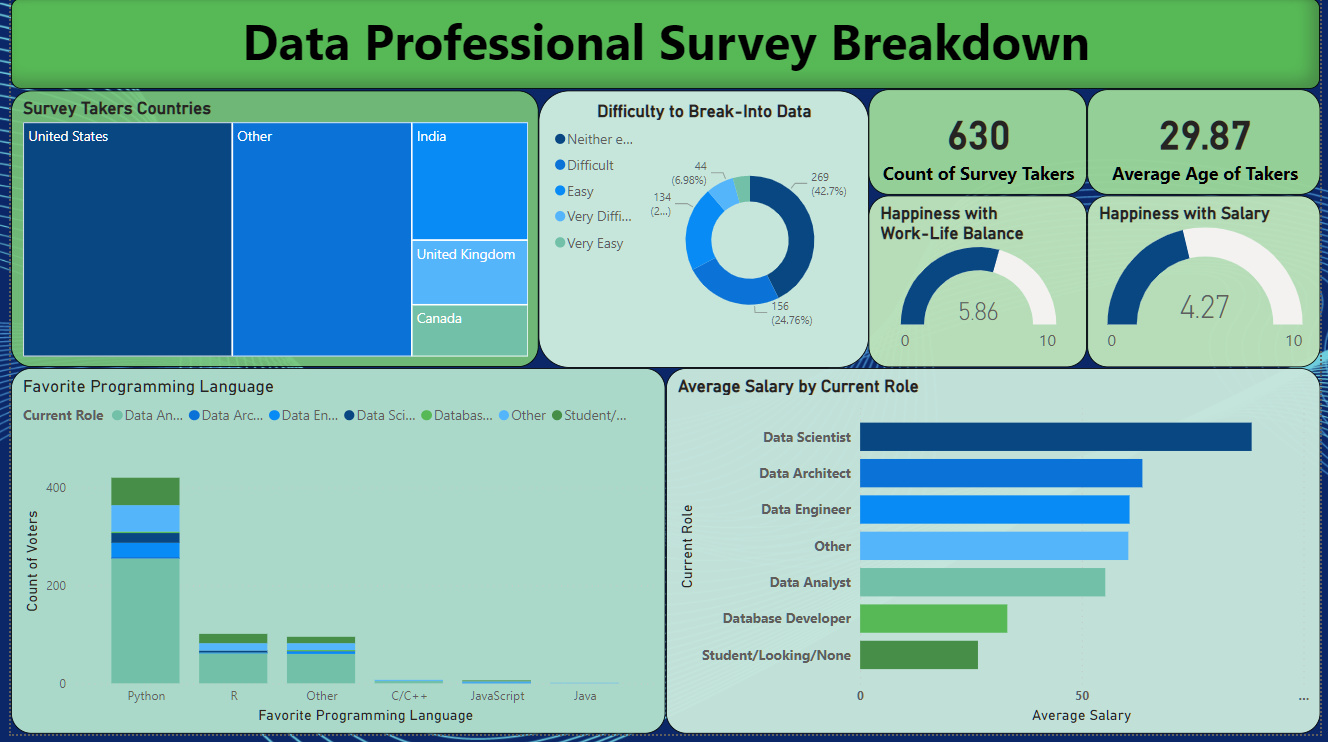

What the dashboard file says about the page in this screenshot:
{"tool":"powerbi","page":{"name":"Page 1","canvas":[1280,720],"ordinal":0},"visuals":[{"type":"textbox","box":[0,0,1280,89.2],"z":0},{"type":"card","title":"Count of Survey Takers","fields":{"Values":["CountNonNull(Data Professional Survey.Unique ID)"]},"box":[838.5,89.6,213.6,103.1],"z":1000},{"type":"card","title":"Count of Survey Takers","fields":{"Values":["Avg(Data Professional Survey.Q10 - Current Age)"]},"box":[1052.1,89.6,228.4,103.1],"z":2000},{"type":"barChart","title":"Average Salary by Current Role","fields":{"Category":["Data Professional Survey.Q1 - Which Title Best Fits your Current Role?.1"],"Y":["Avg(Data Professional Survey.Average Salary)"],"Series":["Data Professional Survey.Q1 - Which Title Best Fits your Current Role?.1"]},"box":[640.3,361.6,640.3,357.3],"z":3000},{"type":"columnChart","title":"Favorite Programming Language","fields":{"Category":["Data Professional Survey.Q5 - Favorite Programming Language.1"],"Y":["CountNonNull(Data Professional Survey.Unique ID)"],"Series":["Data Professional Survey.Q1 - Which Title Best Fits your Current Role?.1"]},"box":[0,361.6,640.3,357.3],"z":4000},{"type":"treemap","title":"Survey Takers Countries","fields":{"Group":["Data Professional Survey.Q11 - Which Country do you live in?.1"],"Values":["CountNonNull(Data Professional Survey.Q11 - Which Country do you live in?.1)"]},"box":[0,90,515.9,270.1],"z":5000},{"type":"gauge","title":"Happiness with Work-Life Balance","fields":{"Y":["Avg(Data Professional Survey.Q6 - How Happy are you in your Current Position with the following? (Coworkers))"],"MinValue":["Min(Data Professional Survey.Q6 - How Happy are you in your Current Position with the following? (Coworkers))"],"MaxValue":["Max(Data Professional Survey.Q6 - How Happy are you in your Current Position with the following? (Coworkers))"]},"box":[838.5,192.7,213.6,168.2],"z":6000},{"type":"gauge","title":"Happiness with Salary","fields":{"Y":["Avg(Data Professional Survey.Q6 - How Happy are you in your Current Position with the following? (Salary))"],"MinValue":["Min(Data Professional Survey.Q6 - How Happy are you in your Current Position with the following? (Salary))"],"MaxValue":["Max(Data Professional Survey.Q6 - How Happy are you in your Current Position with the following? (Salary))"]},"box":[1052.1,192.7,228.4,168.2],"z":7000},{"type":"donutChart","title":"Difficulty to Break-Into Data","fields":{"Y":["CountNonNull(Data Professional Survey.Q7 - How difficult was it for you to break into Data?)"],"Category":["Data Professional Survey.Q7 - How difficult was it for you to break into Data?"]},"box":[515.9,90,323,271.5],"z":8000}]}

Visuals, with their boxes in screenshot pixels (x1, y1, x2, y2), scaled from the page's 1280x720 canvas onto the 1328x742 screenshot:
textbox: bbox(0, 0, 1327, 92)
"Count of Survey Takers" card: bbox(870, 92, 1092, 199)
"Count of Survey Takers" card: bbox(1092, 92, 1327, 199)
"Average Salary by Current Role" barChart: bbox(664, 373, 1327, 741)
"Favorite Programming Language" columnChart: bbox(0, 373, 664, 741)
"Survey Takers Countries" treemap: bbox(0, 93, 535, 371)
"Happiness with Work-Life Balance" gauge: bbox(870, 199, 1092, 372)
"Happiness with Salary" gauge: bbox(1092, 199, 1327, 372)
"Difficulty to Break-Into Data" donutChart: bbox(535, 93, 870, 373)
